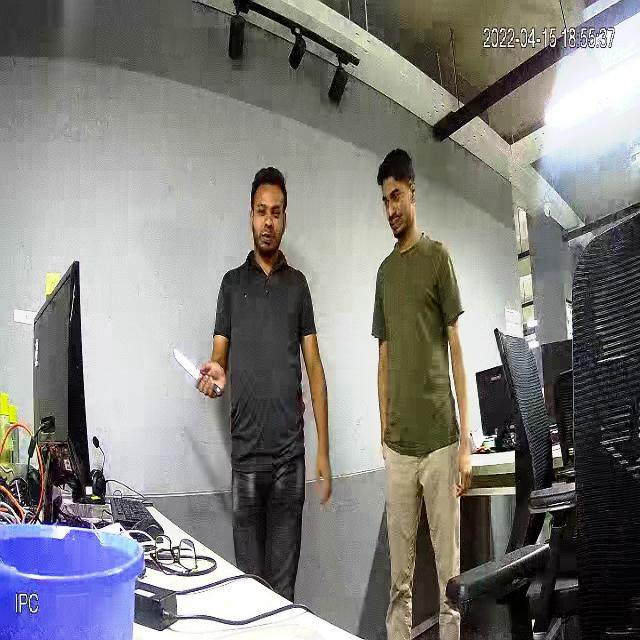Knife: (162, 339, 232, 401)
